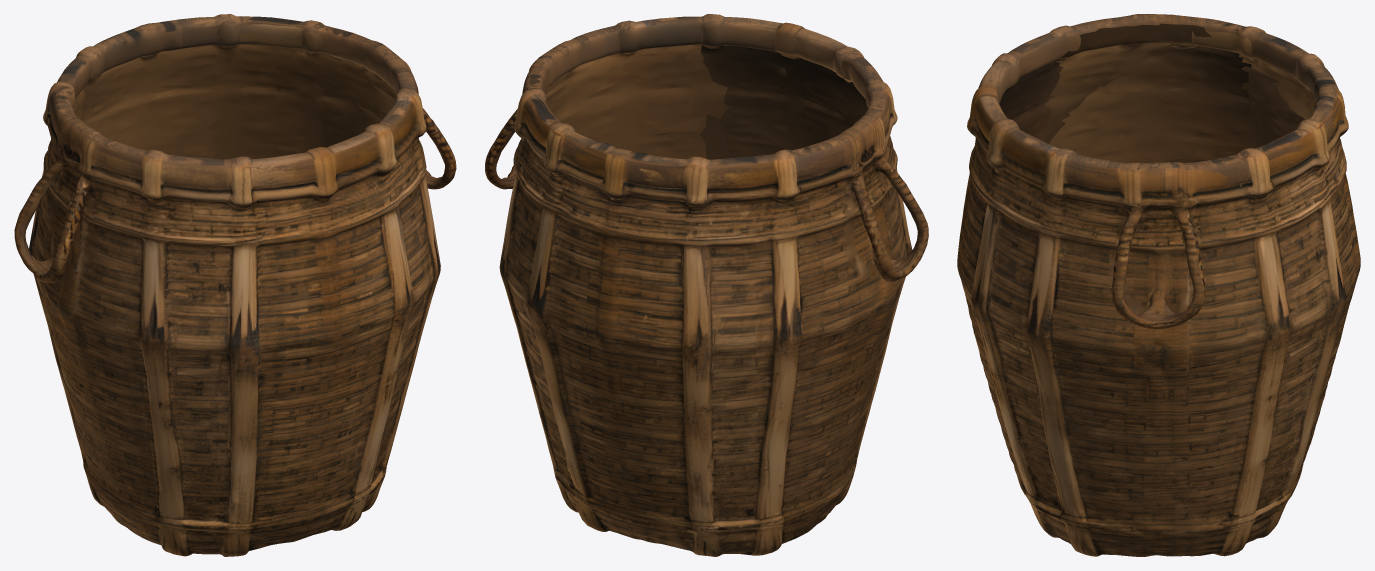
File: bamboo-basket.glb
3 renders of one model, left to right at view 1: azimuth 30°, elevation 25°; view 2: azimuth 150°, elevation 25°; view 3: azimuth 270°, elevation 25°, orthographic.
Visible parts, largest first — view 1: texture_pbr_v128; view 2: texture_pbr_v128; view 3: texture_pbr_v128.
Part boxes in pixels (box(x1,y1,x2,y2)): texture_pbr_v128: box(14, 14, 456, 556); texture_pbr_v128: box(485, 14, 928, 556); texture_pbr_v128: box(957, 14, 1360, 556).
Bounding box in the file's own units: 0.956 × 0.9489 × 0.823.
Materials: 1 (1 with a texture image).
